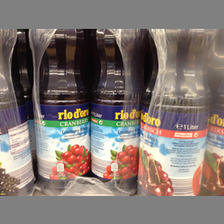juice: (138, 29, 213, 196), (28, 30, 91, 183), (90, 29, 144, 184)
